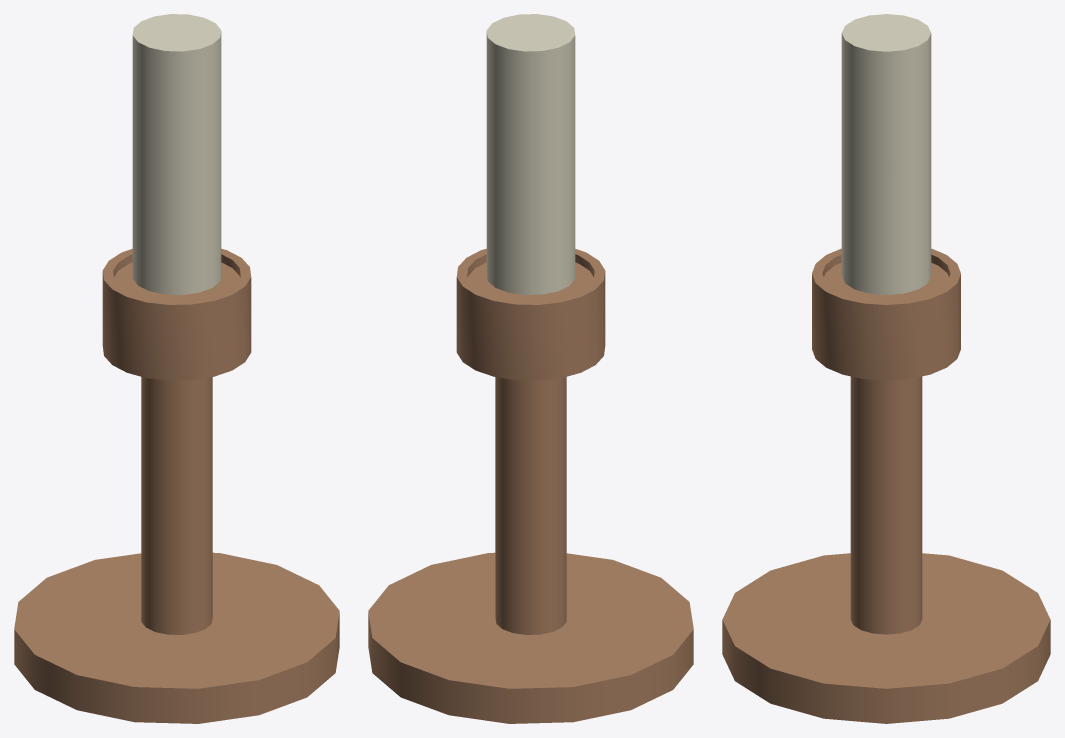
File: scavengers-loot-library-candle-holder-8cac3175__2647.glb
The picture shows the model from 3 angles, left to right: view 1: azimuth 30°, elevation 25°; view 2: azimuth 150°, elevation 25°; view 3: azimuth 270°, elevation 25°; orthographic projection.
Visible parts, largest first — view 1: candle-holder; view 2: candle-holder; view 3: candle-holder.
Part boxes in pixels (x1,y1,x2,y2): candle-holder: (14, 14, 339, 723); candle-holder: (368, 14, 693, 723); candle-holder: (722, 14, 1050, 723).
Size of the model in its own units: 0.11 by 0.23 by 0.11.
